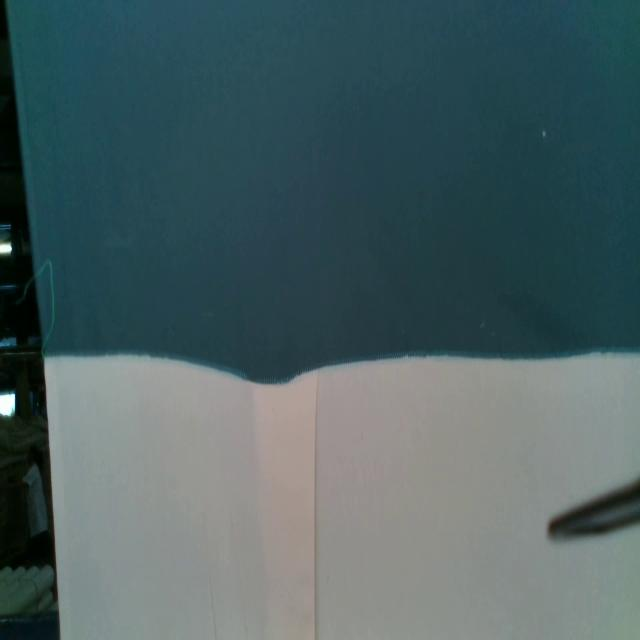crease: (312, 374, 321, 635)
